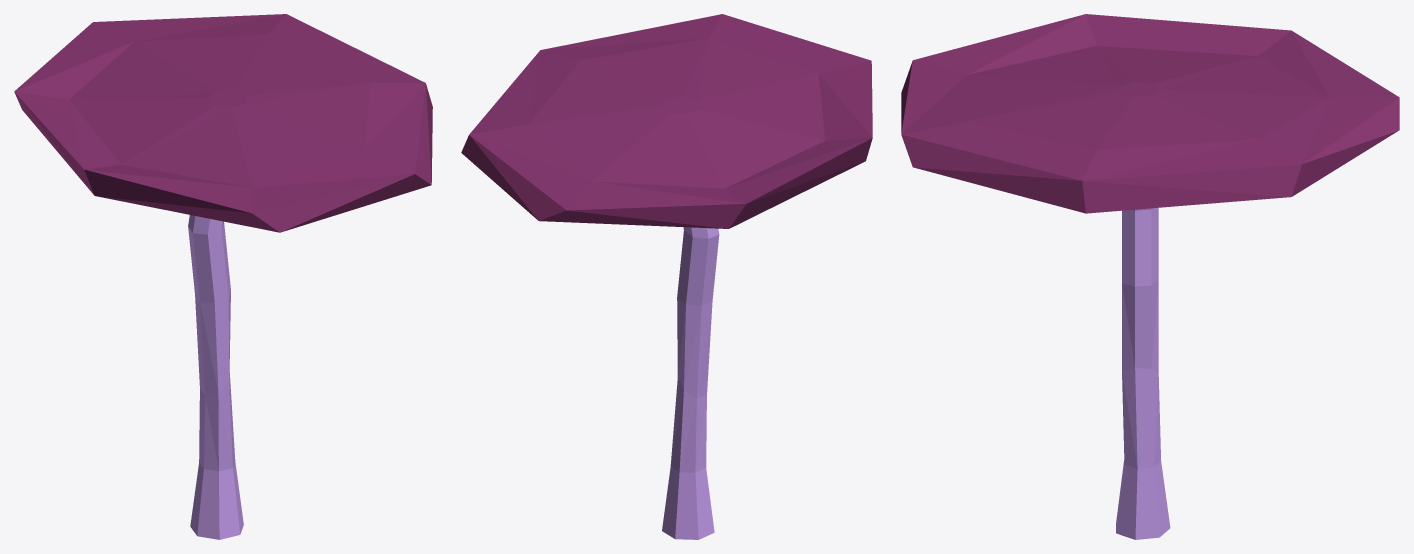
File: Fungus4.fbx
3 views of the same model, side by side, from view 1: azimuth 30°, elevation 25°; view 2: azimuth 150°, elevation 25°; view 3: azimuth 270°, elevation 25° (orthographic). The views are drawn at different scales.
Visible parts, largest first — view 1: Cylinder; view 2: Cylinder; view 3: Cylinder.
Part boxes in pixels (box(x1,y1,x2,y2)): Cylinder: box(14, 14, 432, 539); Cylinder: box(461, 14, 872, 539); Cylinder: box(901, 14, 1399, 539).
Bounding box in the file's own units: 321 × 377 × 383.
